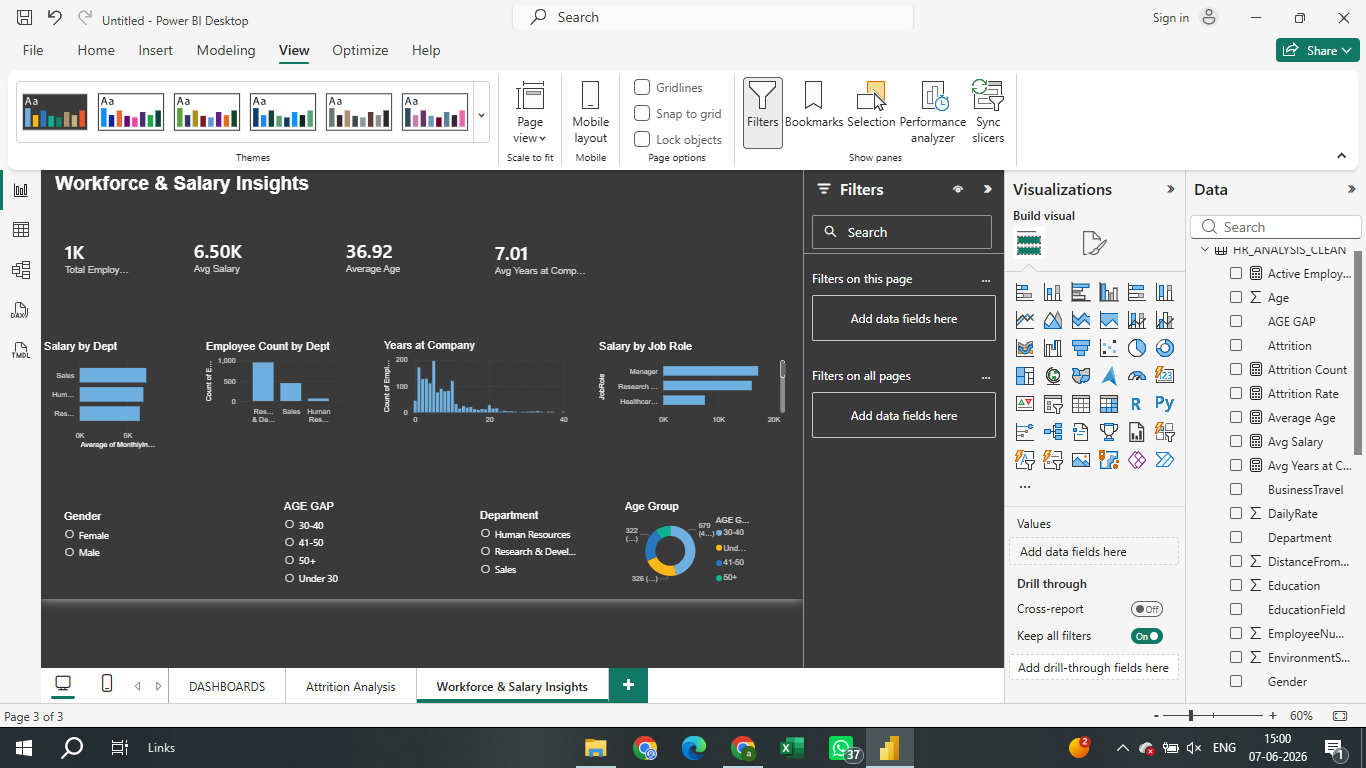

What the dashboard file says about the page in this screenshot:
{"tool":"powerbi","page":{"name":"Workforce & Salary Insights","canvas":[1280,720],"ordinal":2},"visuals":[{"type":"textbox","box":[10.1,0,524.1,68.9],"z":0},{"type":"cardVisual","fields":{"Data":["HR_ANALYSIS_CLEAN.Avg Salary"]},"box":[226.8,68.9,176.4,149.5],"z":1},{"type":"cardVisual","fields":{"Data":["HR_ANALYSIS_CLEAN.Average Age"]},"box":[482.1,68.9,176.4,149.5],"z":2},{"type":"cardVisual","fields":{"Data":["HR_ANALYSIS_CLEAN.Avg Years at Company"]},"box":[732.4,70.6,218.4,151.2],"z":3},{"type":"cardVisual","fields":{"Data":["HR_ANALYSIS_CLEAN.Total Employees"]},"box":[10.1,70.6,168,149.5],"z":4},{"type":"clusteredBarChart","title":"Salary by Dept","fields":{"Category":["HR_ANALYSIS_CLEAN.Department"],"Y":["Avg(HR_ANALYSIS_CLEAN.MonthlyIncome)"]},"box":[0,285.6,206.6,188.1],"z":5},{"type":"clusteredBarChart","title":" Salary by Job Role","fields":{"Category":["HR_ANALYSIS_CLEAN.JobRole"],"Y":["Avg(HR_ANALYSIS_CLEAN.MonthlyIncome)"]},"box":[932.3,285.6,322.5,149.5],"z":6},{"type":"clusteredColumnChart","title":"Employee Count by Dept","fields":{"Category":["HR_ANALYSIS_CLEAN.Department"],"Y":["CountNonNull(HR_ANALYSIS_CLEAN.EmployeeNumber)"]},"box":[272.1,285.6,236.9,149.5],"z":7},{"type":"clusteredColumnChart","title":"Years at Company ","fields":{"Category":["HR_ANALYSIS_CLEAN.YearsAtCompany"],"Y":["CountNonNull(HR_ANALYSIS_CLEAN.EmployeeNumber)"]},"box":[571.1,283.9,319.2,151.2],"z":8},{"type":"donutChart","title":"Age Group","fields":{"Category":["HR_ANALYSIS_CLEAN.AGE GAP"],"Y":["Count(HR_ANALYSIS_CLEAN.EmployeeNumber)"]},"box":[976,554.3,228.5,149.5],"z":9},{"type":"listSlicer","fields":{"Values":["HR_ANALYSIS_CLEAN.Department"]},"box":[732.4,569.4,174.7,151.2],"z":10},{"type":"listSlicer","fields":{"Values":["HR_ANALYSIS_CLEAN.Gender"]},"box":[33.6,571.1,173,149.5],"z":11},{"type":"listSlicer","fields":{"Values":["HR_ANALYSIS_CLEAN.AGE GAP"]},"box":[403.1,554.3,173,151.2],"z":12}]}

Visuals, with their boxes on the page's 1280x720 design canvas (x1, y1, x2, y2). These are canvas units, not pixel positions in the 1366x768 screenshot, which may show the page scaled, cropped or inside an application window:
textbox: region(10, 0, 534, 69)
cardVisual - HR_ANALYSIS_CLEAN.Avg Salary: region(227, 69, 403, 218)
cardVisual - HR_ANALYSIS_CLEAN.Average Age: region(482, 69, 658, 218)
cardVisual - HR_ANALYSIS_CLEAN.Avg Years at Company: region(732, 71, 951, 222)
cardVisual - HR_ANALYSIS_CLEAN.Total Employees: region(10, 71, 178, 220)
"Salary by Dept" clusteredBarChart: region(0, 286, 207, 474)
" Salary by Job Role" clusteredBarChart: region(932, 286, 1255, 435)
"Employee Count by Dept" clusteredColumnChart: region(272, 286, 509, 435)
"Years at Company " clusteredColumnChart: region(571, 284, 890, 435)
"Age Group" donutChart: region(976, 554, 1204, 704)
listSlicer - HR_ANALYSIS_CLEAN.Department: region(732, 569, 907, 721)
listSlicer - HR_ANALYSIS_CLEAN.Gender: region(34, 571, 207, 721)
listSlicer - HR_ANALYSIS_CLEAN.AGE GAP: region(403, 554, 576, 706)
